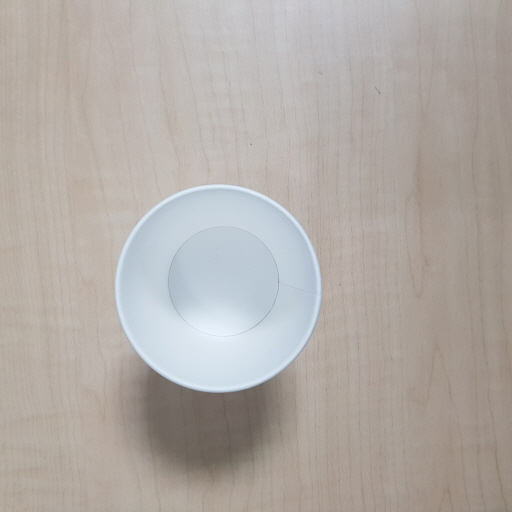Paper_1: (113, 177, 321, 398)
